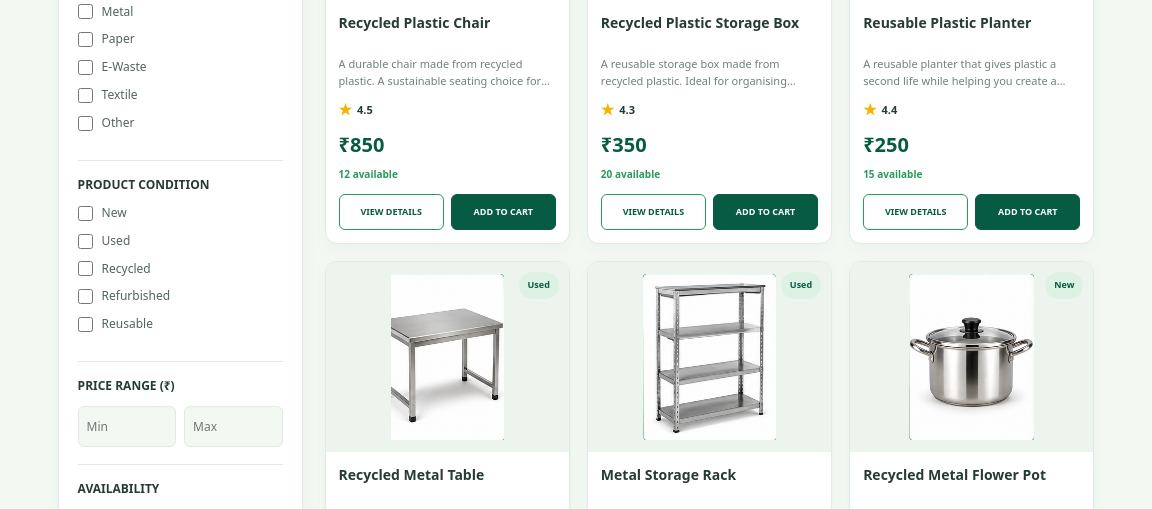
Test: SearchResults Component › adds an available product to the cart
(page scrolled)
Click the button "ADD TO CART" below "12 available" at (503, 212), box [451,194,556,230]
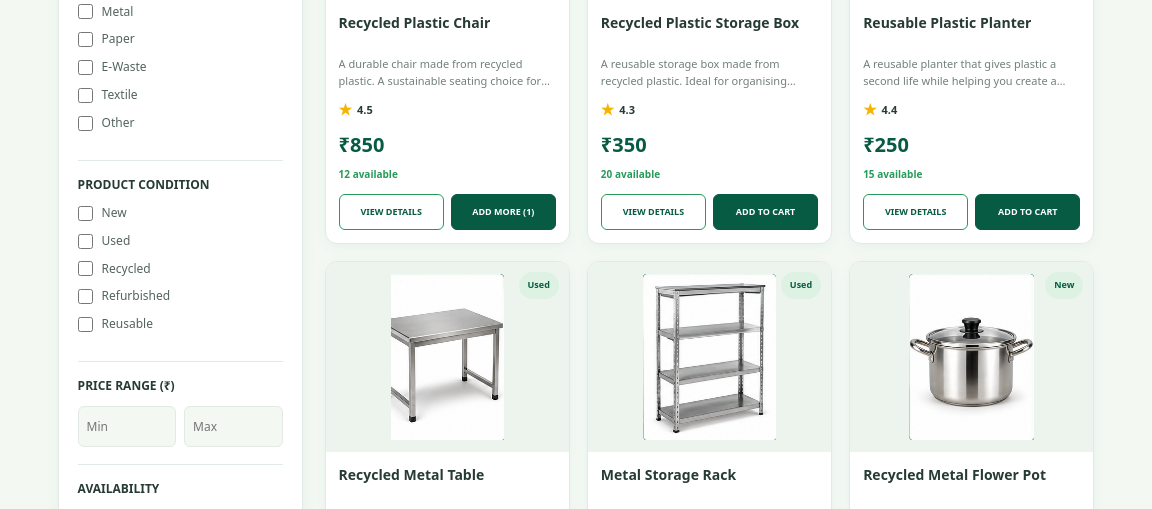
Expected: the button "ADD MORE (1)" is shown, [451,194,556,230]
